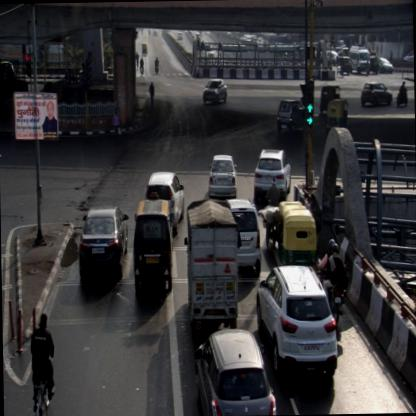bus: (184, 199, 238, 328), (350, 42, 372, 76)
car: (256, 262, 338, 378), (193, 328, 276, 416), (78, 204, 130, 284), (132, 200, 172, 293), (224, 195, 260, 278), (144, 171, 187, 234), (252, 147, 292, 202), (209, 155, 236, 196), (276, 99, 306, 135), (360, 82, 392, 106), (202, 79, 228, 105)
motorcycle: (30, 313, 55, 415), (316, 237, 344, 321), (262, 176, 278, 250), (395, 79, 407, 106), (138, 57, 143, 76), (154, 54, 158, 74)
